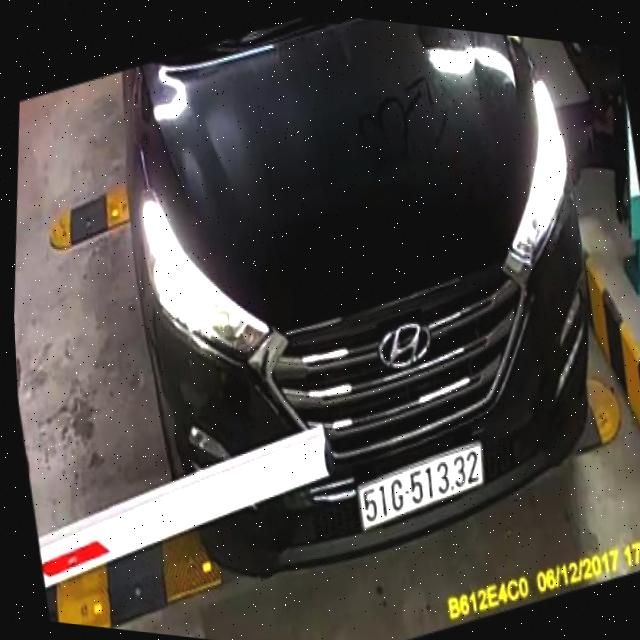car: (78, 3, 626, 627)
plate: (350, 425, 495, 546)
